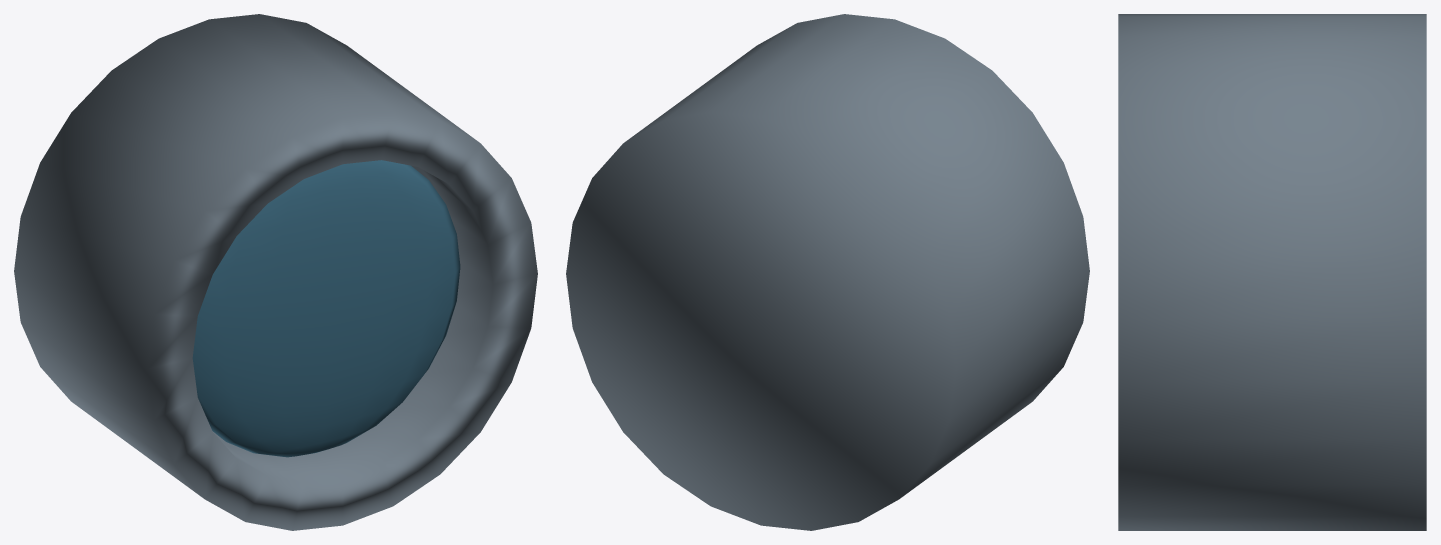
Rendered from perseverance_mast.deployment.azimuth.head.mastcam_z_l.glb.
3 views of the same model, side by side, from view 1: azimuth 30°, elevation 25°; view 2: azimuth 150°, elevation 25°; view 3: azimuth 270°, elevation 25° (orthographic). The views are drawn at different scales.
Visible parts, largest first — view 1: perseverance_mast.deployment.azimuth.head.mastcam_z_l.mesh_M, perseverance_mast.deployment.azimuth.head.mastcam_z_l.lens.m; view 2: perseverance_mast.deployment.azimuth.head.mastcam_z_l.mesh_M; view 3: perseverance_mast.deployment.azimuth.head.mastcam_z_l.mesh_M.
Boxes of the visible parts, x1,y1,x2,y2 form: perseverance_mast.deployment.azimuth.head.mastcam_z_l.mesh_M: (14, 14, 537, 530); perseverance_mast.deployment.azimuth.head.mastcam_z_l.lens.m: (192, 160, 460, 457); perseverance_mast.deployment.azimuth.head.mastcam_z_l.mesh_M: (566, 14, 1089, 530); perseverance_mast.deployment.azimuth.head.mastcam_z_l.mesh_M: (1118, 14, 1426, 530).
Bounding box in the file's own units: 0.096 × 0.096 × 0.057.
